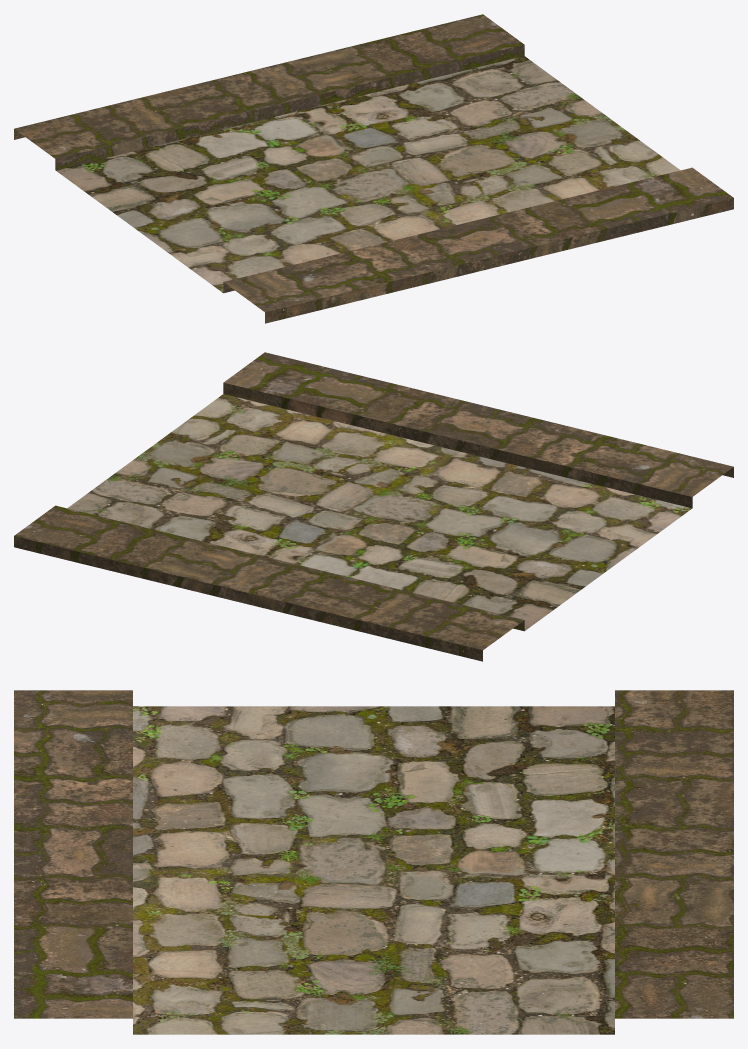
File: Middleand trottoir.FBX
3 renders of one model, top to bottom at view 1: azimuth 30°, elevation 25°; view 2: azimuth 150°, elevation 25°; view 3: azimuth 270°, elevation 25°, orthographic. The views are drawn at different scales.
Parts seen in each view (by area): view 1: Plane001; view 2: Plane001; view 3: Plane001.
Part boxes in pixels (<box>): Plane001: <box>14,14,733,323</box>; Plane001: <box>14,352,733,661</box>; Plane001: <box>14,690,733,1034</box>.
Size of the model in its own units: 447 by 414 by 10.33.
Materials: 2 (2 with a texture image).
